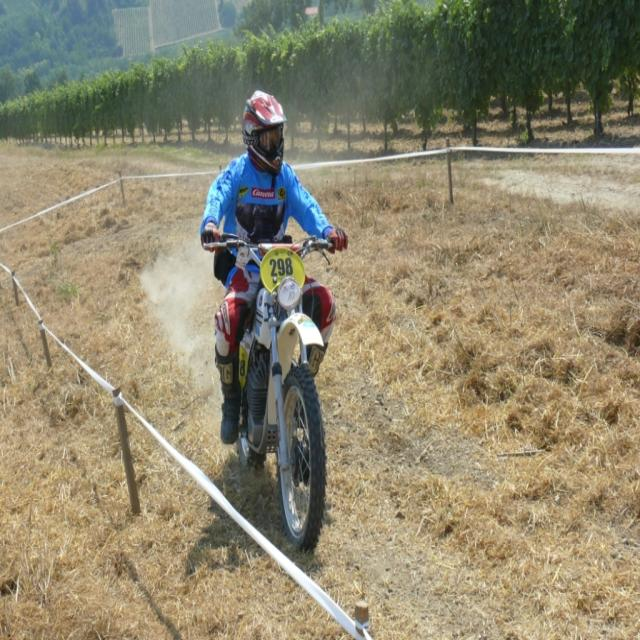Motorbikes: (190, 222, 344, 560)
